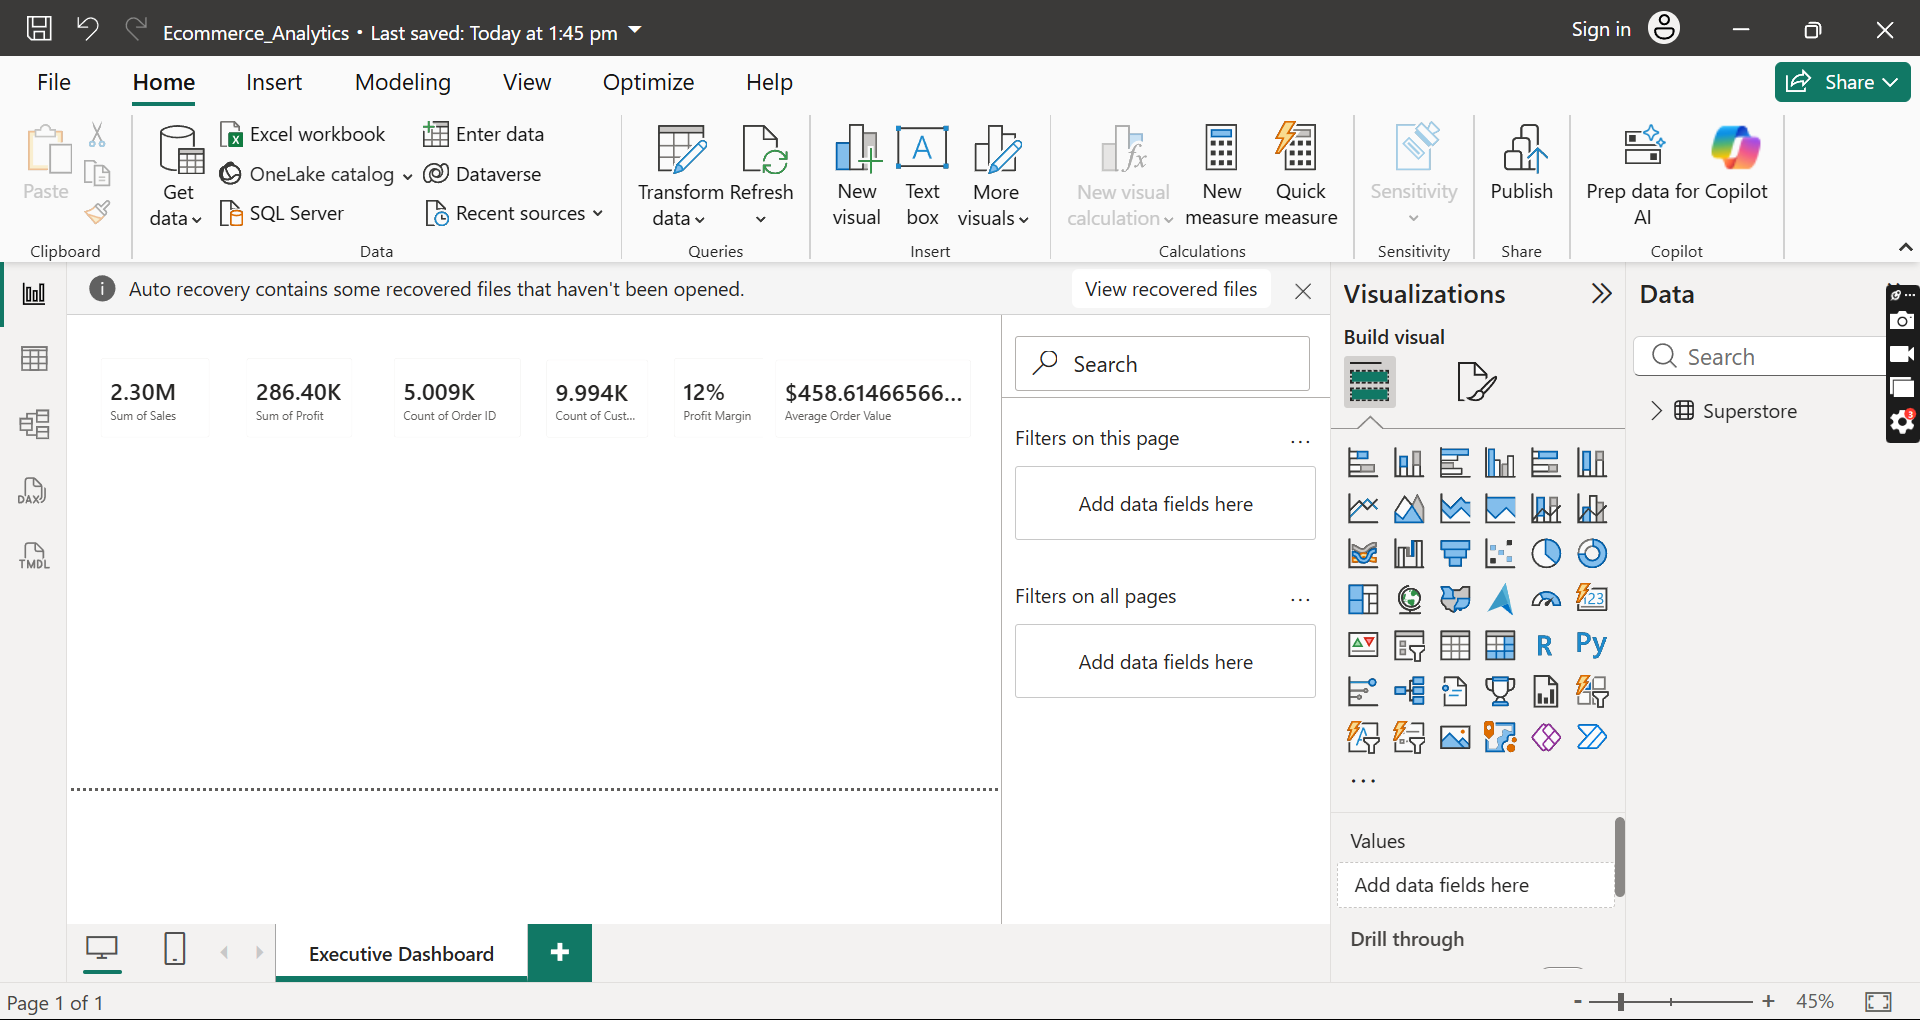

What the dashboard file says about the page in this screenshot:
{"tool":"powerbi","page":{"name":"Executive Dashboard","canvas":[1280,720],"ordinal":0},"visuals":[{"type":"cardVisual","fields":{"Data":["Sum(superstore_sql_ready.Sales)"]},"box":[18,24,306,266],"z":0},{"type":"cardVisual","fields":{"Data":["Sum(superstore_sql_ready.Profit)"]},"box":[348,26,306,266],"z":1},{"type":"cardVisual","fields":{"Rows":["superstore_sql_ready.Order_ID"]},"box":[18,318,564,386],"z":2},{"type":"cardVisual","fields":{"Data":["superstore_sql_ready.Total Orders"]},"box":[992,26,264,264],"z":3},{"type":"cardVisual","fields":{"Data":["superstore_sql_ready.Total Customers"]},"box":[678,26,292,264],"z":4},{"type":"cardVisual","fields":{"Data":["superstore_sql_ready.Average Order Value"]},"box":[950,318,306,386],"z":5},{"type":"cardVisual","fields":{"Data":["superstore_sql_ready.Average Shipping Days"]},"box":[606,318,312,386],"z":6}]}

Visuals, with their boxes on the page's 1280x720 design canvas (x1, y1, x2, y2). These are canvas units, not pixel positions in the 1920x1020 screenshot, which may show the page scaled, cropped or inside an application window:
cardVisual - Sum(superstore_sql_ready.Sales): [left=18, top=24, right=324, bottom=290]
cardVisual - Sum(superstore_sql_ready.Profit): [left=348, top=26, right=654, bottom=292]
cardVisual - superstore_sql_ready.Order_ID: [left=18, top=318, right=582, bottom=704]
cardVisual - superstore_sql_ready.Total Orders: [left=992, top=26, right=1256, bottom=290]
cardVisual - superstore_sql_ready.Total Customers: [left=678, top=26, right=970, bottom=290]
cardVisual - superstore_sql_ready.Average Order Value: [left=950, top=318, right=1256, bottom=704]
cardVisual - superstore_sql_ready.Average Shipping Days: [left=606, top=318, right=918, bottom=704]
